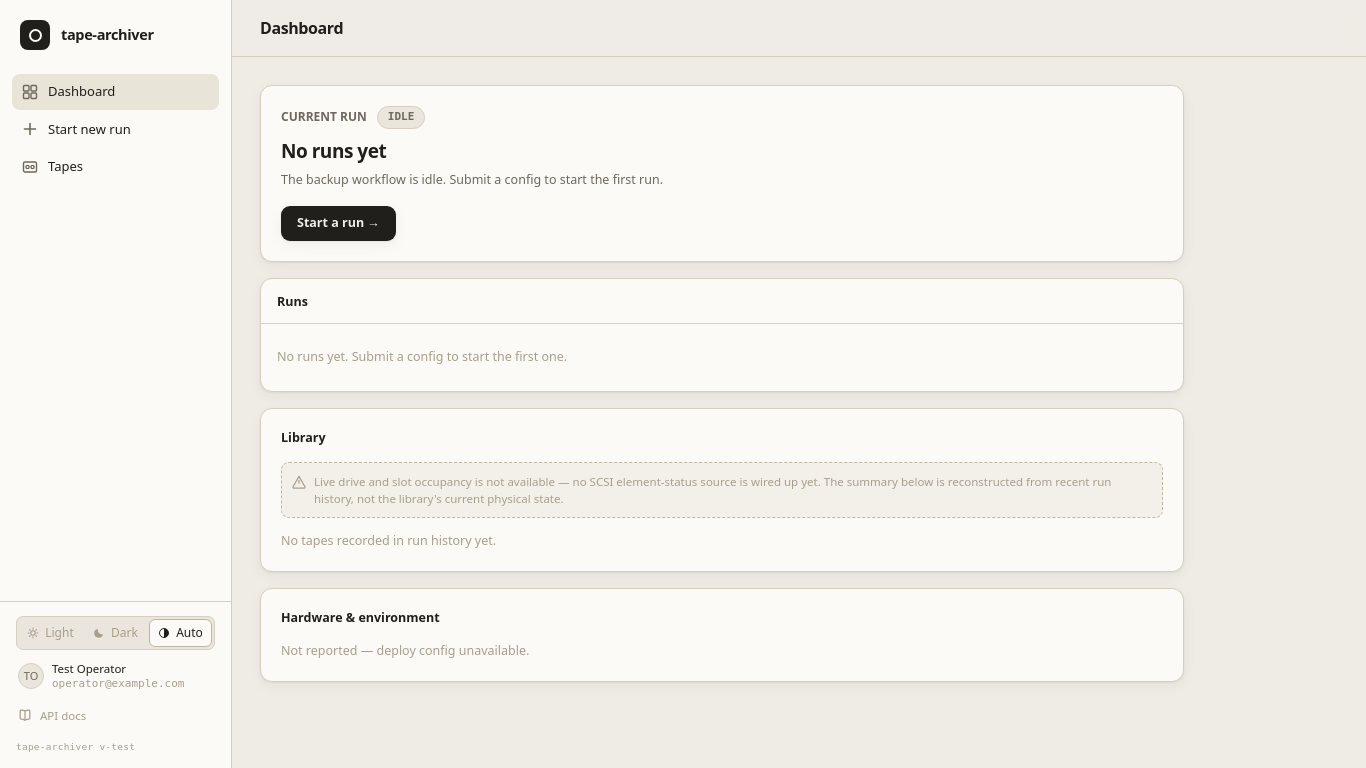
Test case: App auth gating (mid-session 401) › does not treat a non-401 failure (e.g. a flaky proxy hop) as session loss
The width and height of the screenshot is (1366, 768).
Expected: the navigation bar named "Main" is shown, [0,68,231,188]
Expected: the text "No runs yet" is shown, [281,138,386,164]
Click the link "Tapes".
click(52, 166)  # box [22,157,83,175]
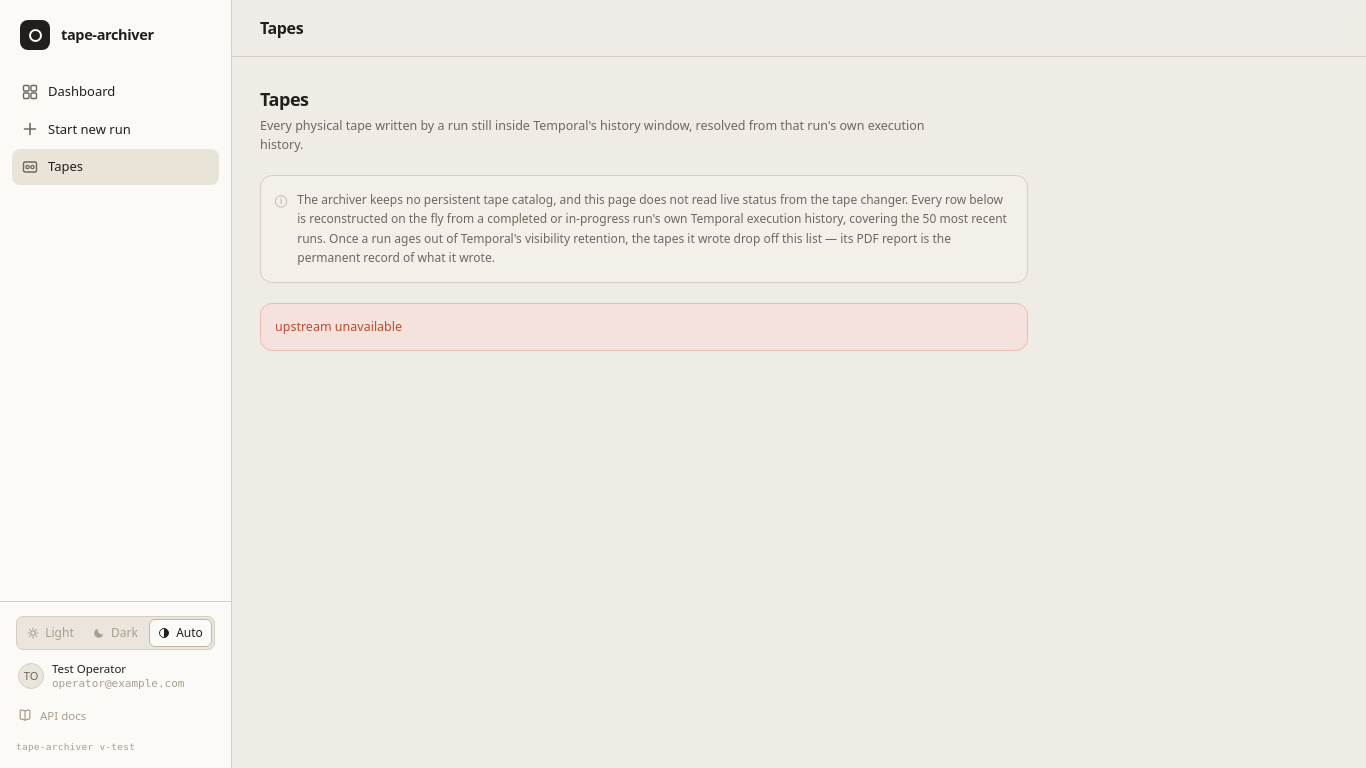
Expected: the navigation bar named "Main" is shown, [0,68,231,188]
Expected: the heading "Tapes" is shown, [260,87,309,111]
